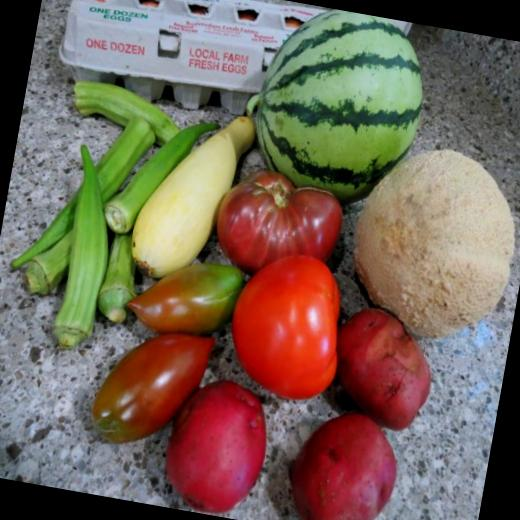Cherry: (232, 0, 437, 219)
